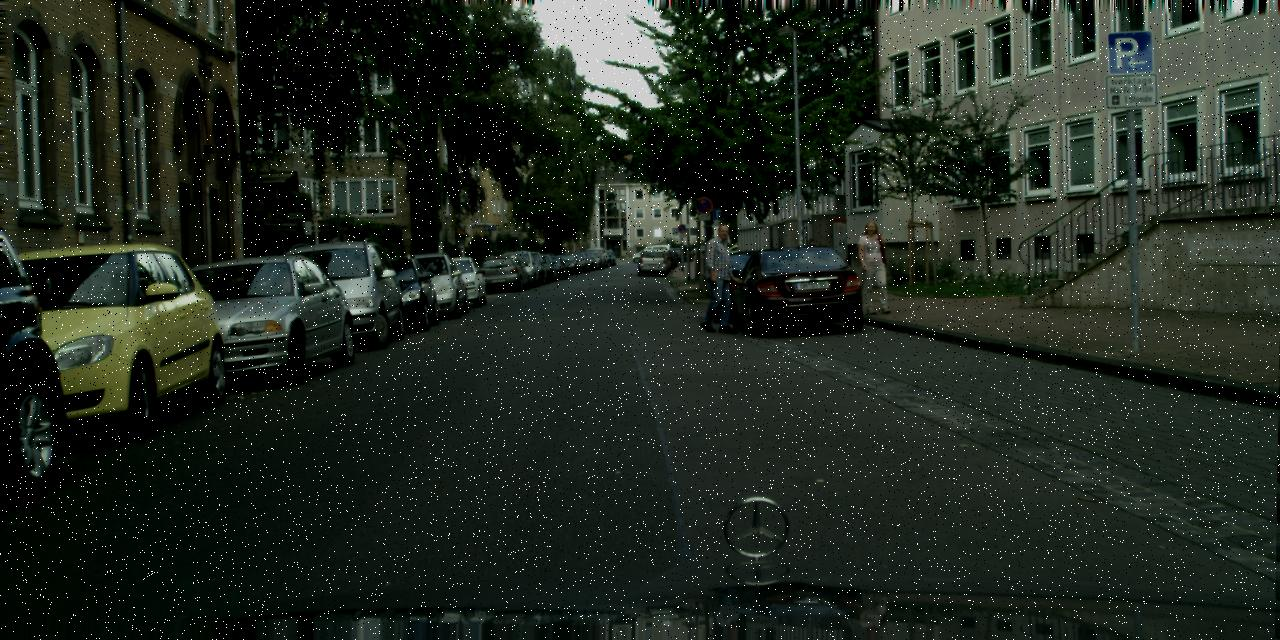ped: (697, 224, 740, 329), (855, 220, 893, 312)
